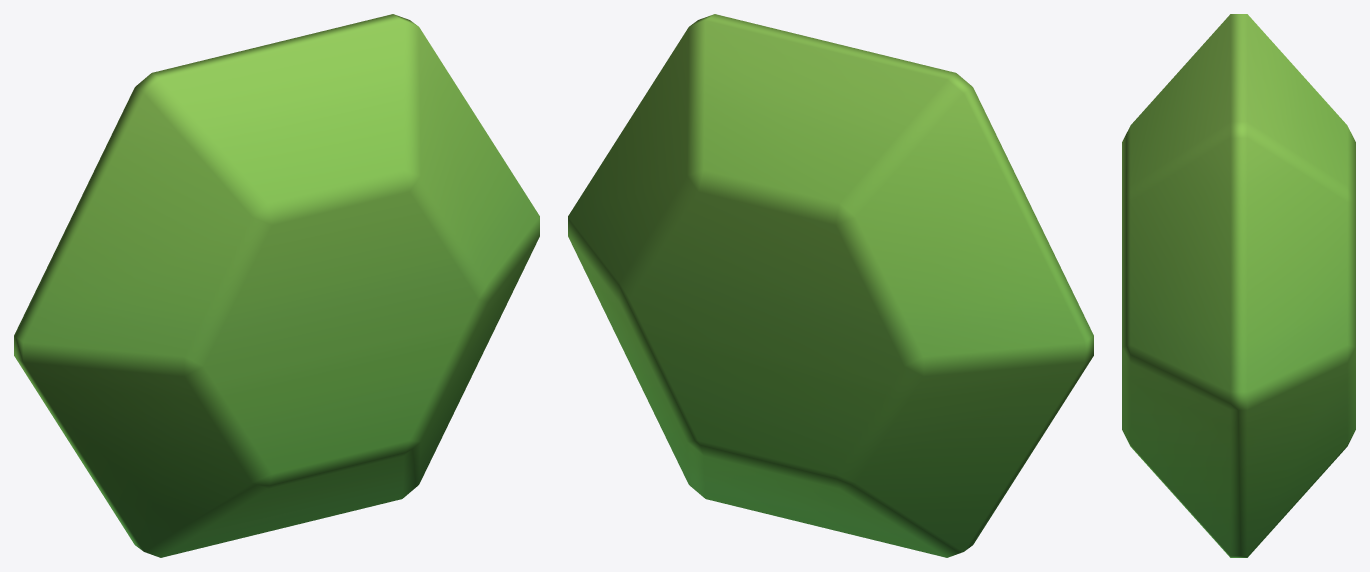
Rendered from inferno-gem-001.glb.
3 renders of one model, left to right at view 1: azimuth 30°, elevation 25°; view 2: azimuth 150°, elevation 25°; view 3: azimuth 270°, elevation 25°, orthographic. The views are drawn at different scales.
Parts seen in each view (by area): view 1: Gem_001; view 2: Gem_001; view 3: Gem_001.
Part boxes in pixels (box(x1,y1,x2,y2)): Gem_001: box(14, 14, 539, 557); Gem_001: box(568, 14, 1093, 557); Gem_001: box(1122, 14, 1355, 557).
Bounding box in the file's own units: 0.3324 × 0.2941 × 0.1428.
1 material, 1 textured.
